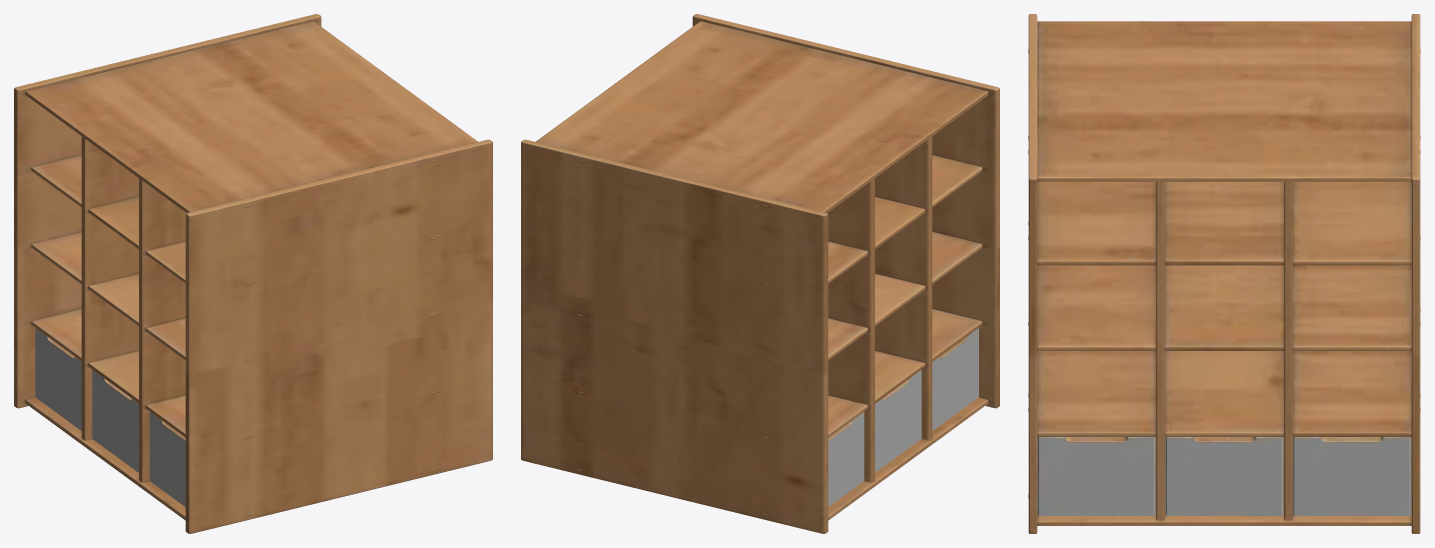
Rendered from ph-wooden-display-shelves-01.glb.
3 renders of one model, left to right at view 1: azimuth 30°, elevation 25°; view 2: azimuth 150°, elevation 25°; view 3: azimuth 270°, elevation 25°, orthographic. The views are drawn at different scales.
Visible parts, largest first — view 1: wooden_display_shelves_01; view 2: wooden_display_shelves_01; view 3: wooden_display_shelves_01.
Part boxes in pixels (<box>): wooden_display_shelves_01: <box>14,14,492,533</box>; wooden_display_shelves_01: <box>521,14,999,533</box>; wooden_display_shelves_01: <box>1028,14,1420,533</box>.
Bounding box in the file's own units: 1 × 1 × 1.
Materials: 1 (1 with a texture image).
